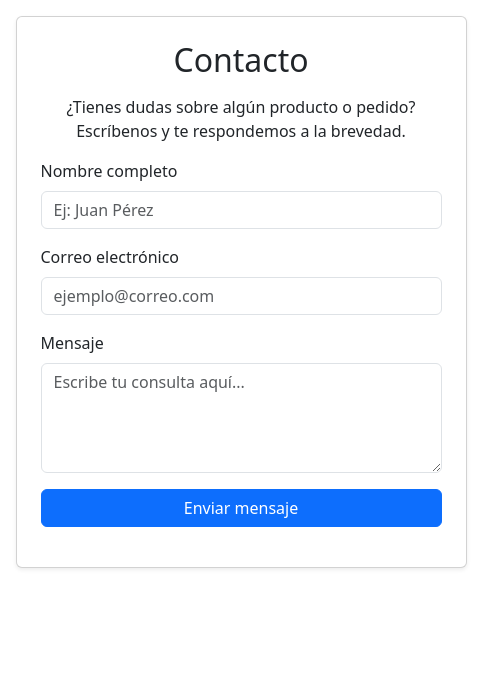
Scenario: ContactForm › rechaza un mensaje de 9 caracteres
In the field labelled "Nombre completo": (241, 210) [40,191,442,229], type "Juan Pérez"
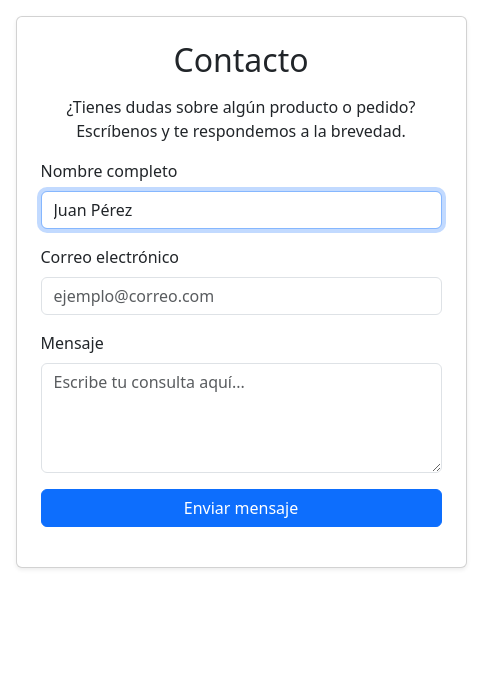
In the field labelled "Correo electrónico": (241, 296) [40,277,442,315], type "juan@correo.com"
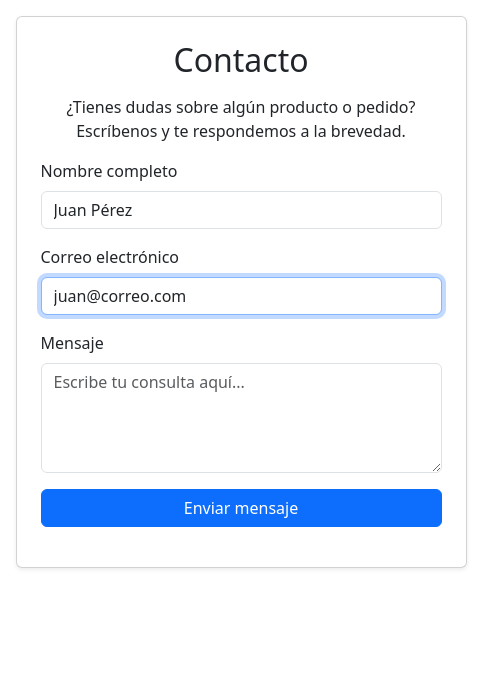
In the text box labelled "Mensaje": (241, 418) [40,363,442,473], type "123456789"
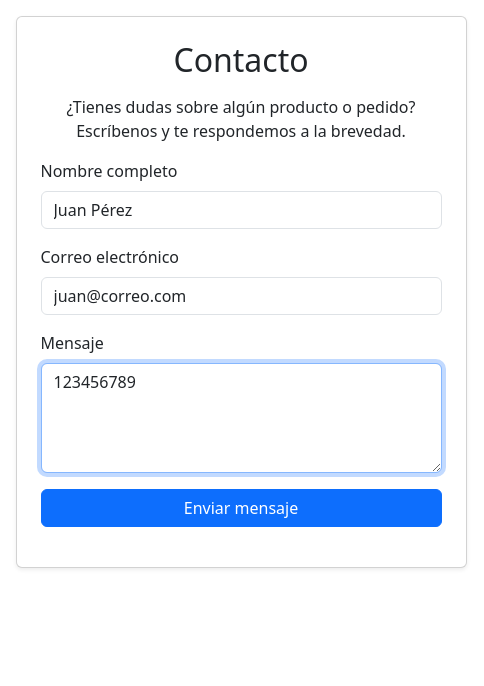
Click the button "Enviar mensaje": (241, 508) [40,489,442,527]
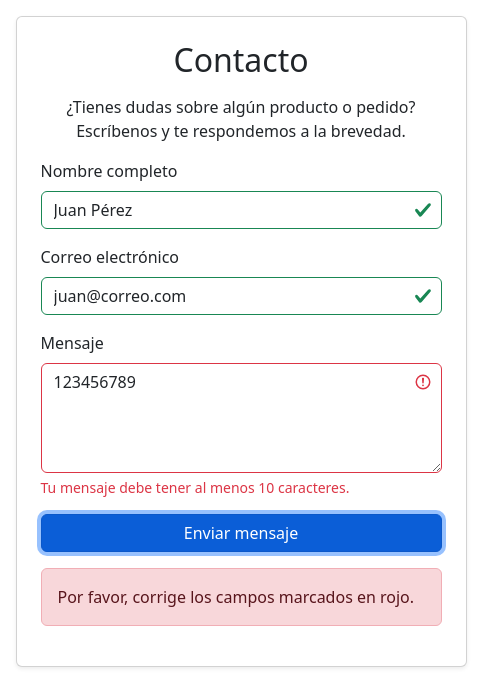
Check: the text "Tu mensaje debe tener al menos 10 caracteres." is shown, box [40,478,350,497]
